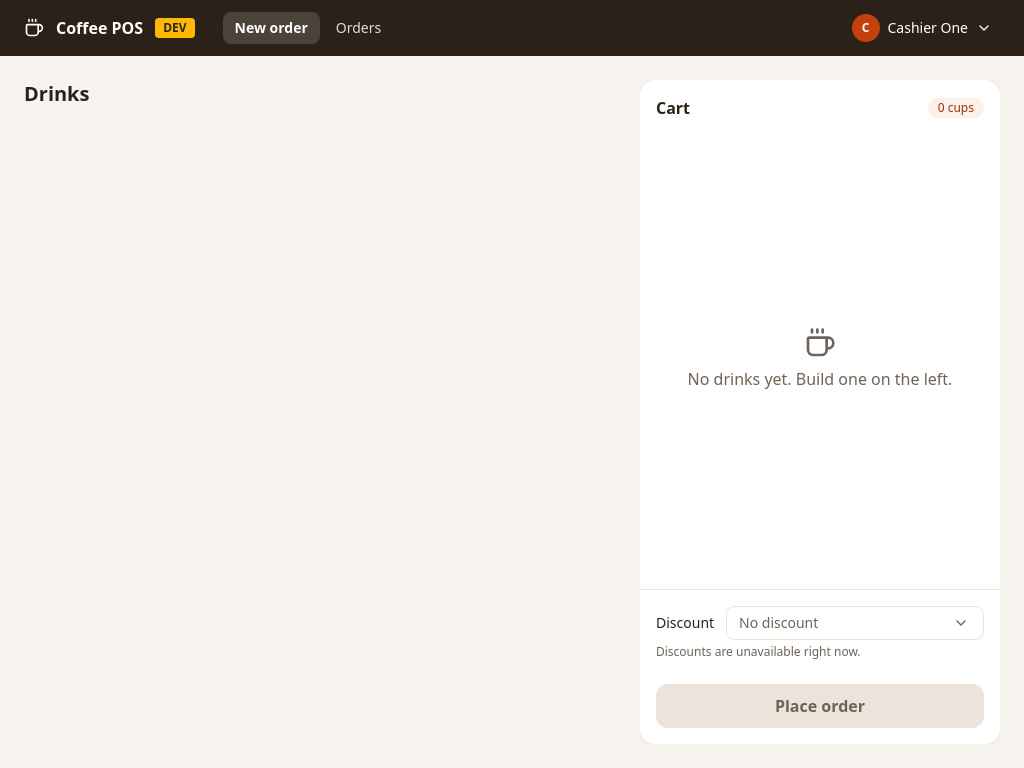
it: UserMenu › keeps language and log out behind the name button
Expected: the button "Log out" is not shown
Expected: the element "Language" is not shown
Click the button "C Cashier One" at (924, 28), box x1=848 y1=10 x2=1000 y2=46
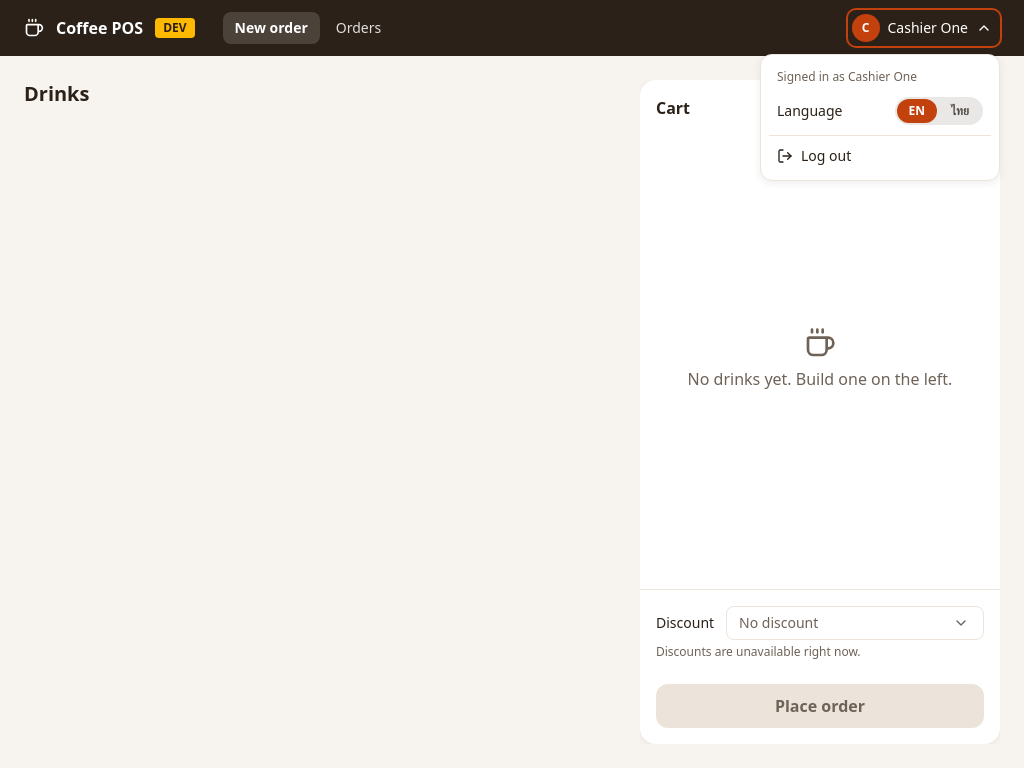
Now the button "C Cashier One" is expanded, box x1=848 y1=10 x2=1000 y2=46
Now the text "Signed in as Cashier One" is shown, box x1=777 y1=68 x2=917 y2=85
Now the element named "Language" is shown, box x1=894 y1=97 x2=983 y2=125
